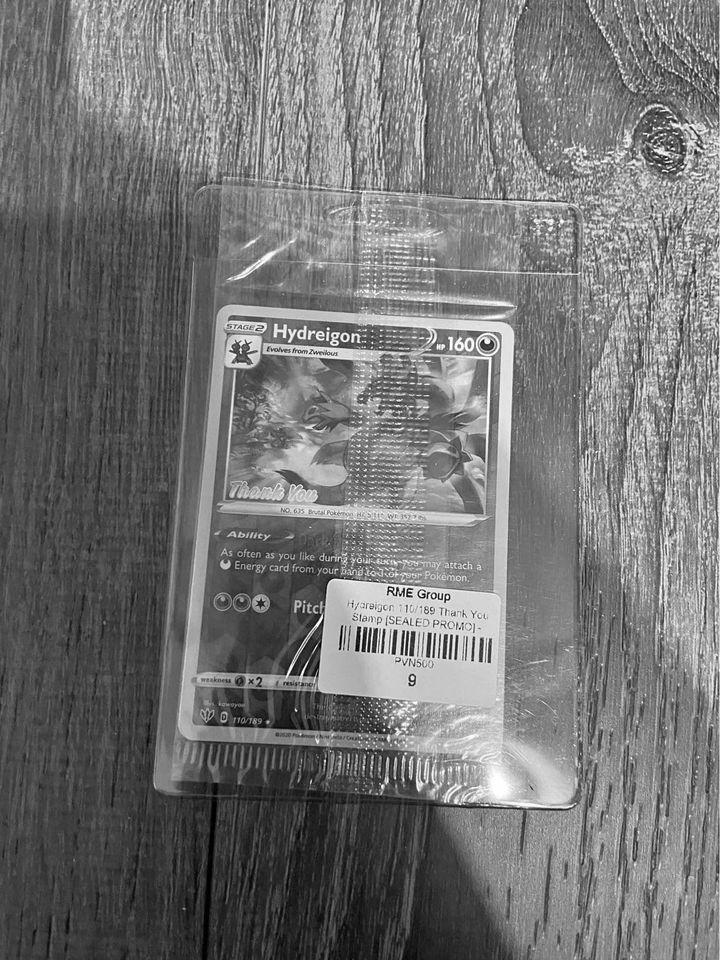card: (177, 304, 516, 759)
